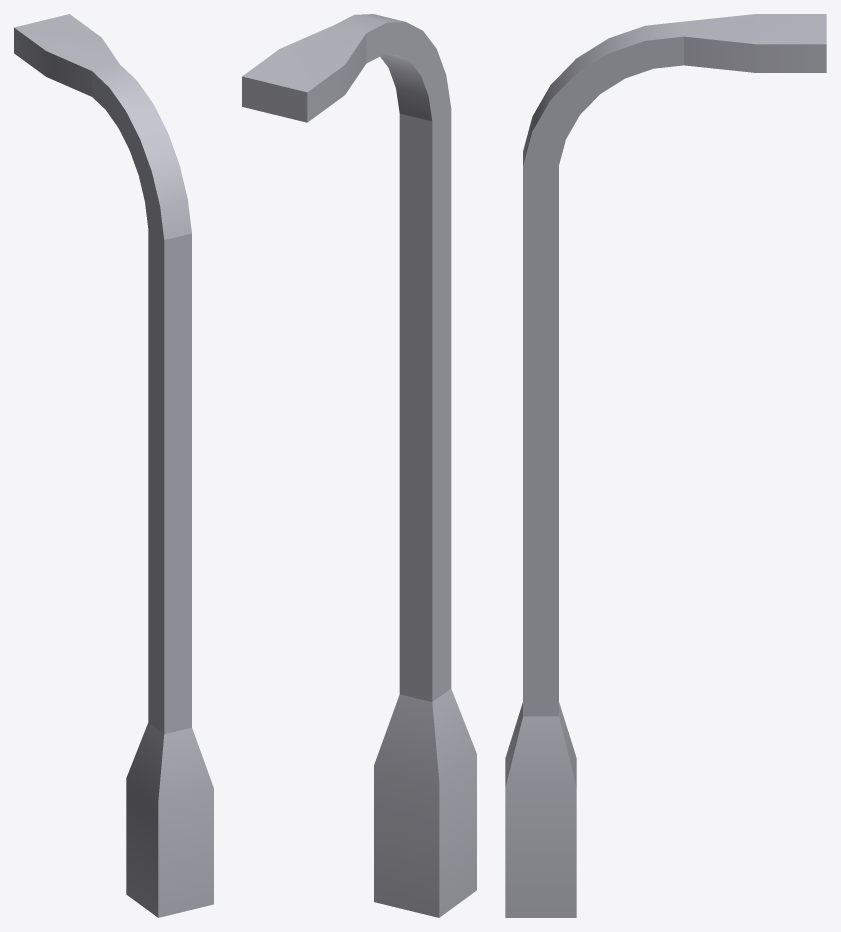
Rendered from jardin_farol.obj.
3 renders of one model, left to right at view 1: azimuth 30°, elevation 25°; view 2: azimuth 150°, elevation 25°; view 3: azimuth 270°, elevation 25°, orthographic. The views are drawn at different scales.
Parts seen in each view (by area): view 1: jardin_farol; view 2: jardin_farol; view 3: jardin_farol.
Boxes of the visible parts, x1,y1,x2,y2 form: jardin_farol: (14, 14, 213, 917); jardin_farol: (242, 14, 476, 917); jardin_farol: (505, 14, 826, 917).
Size of the model in its own units: 0.05 by 0.675 by 0.225.
